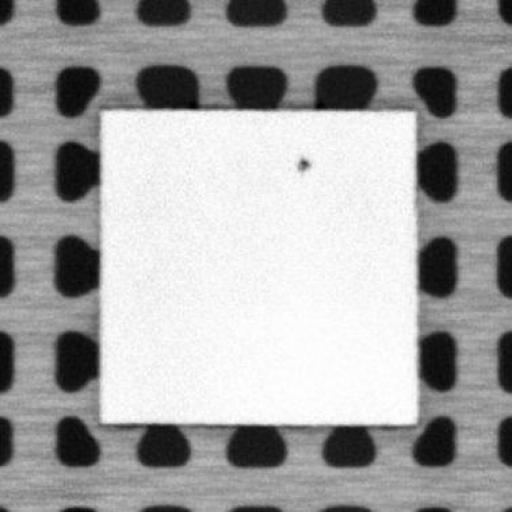DIE_INK: (294, 154, 310, 172)
